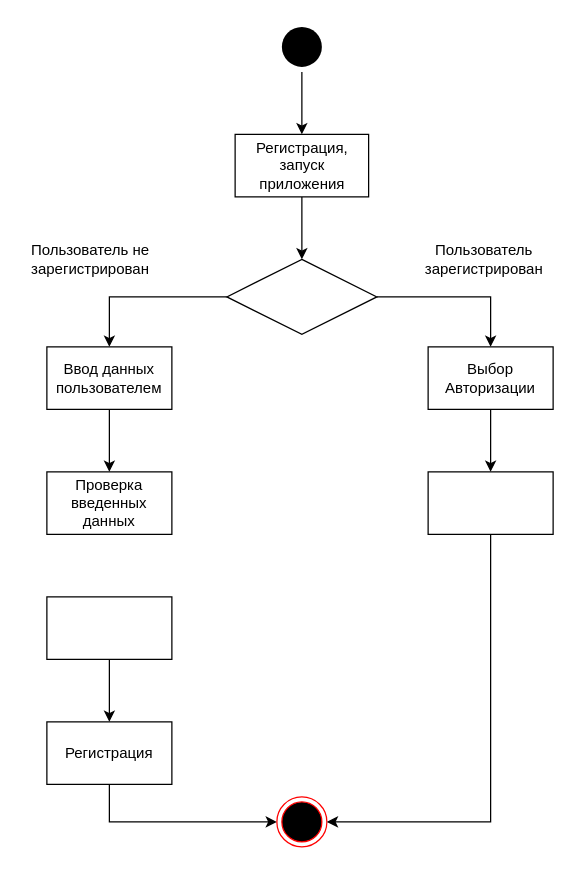
Some shapes in this 575 by 869 pixel diagram are drawn without their labels. Here are the shapes that lost their labels. From the top down, the centre of each, then its label:
At (x=490, y=502): "Авторизация".
At (x=109, y=627): "Добавления пользователя в БД".
